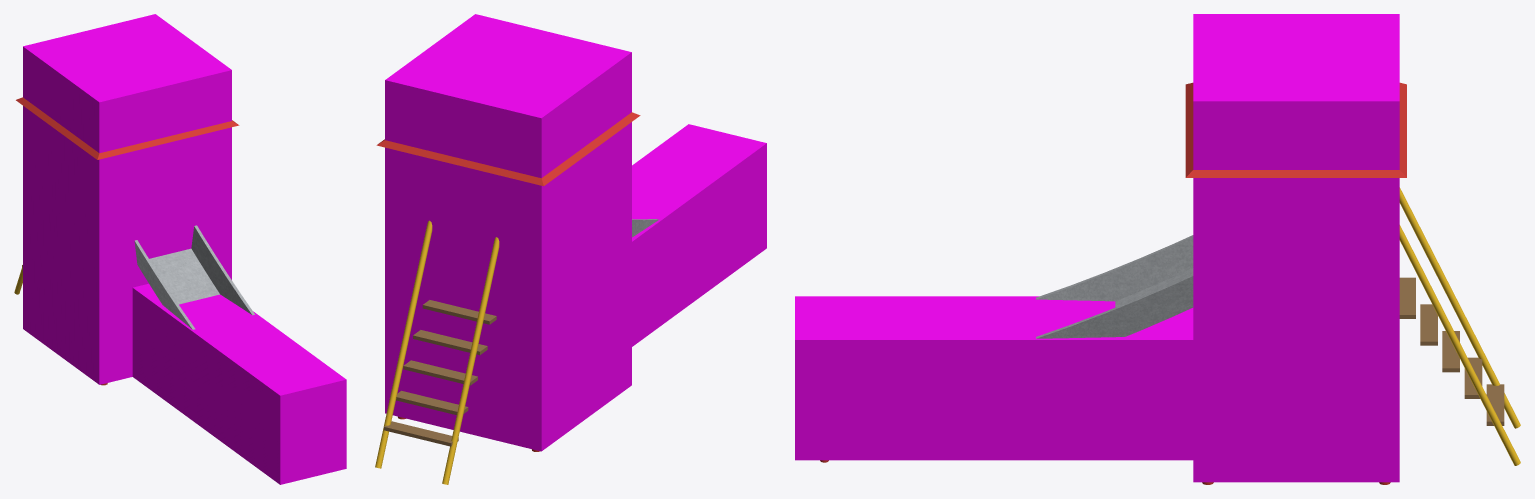
The model's file is EN_Yard_Slide.fbx.
3 views of the same model, side by side, from view 1: azimuth 30°, elevation 25°; view 2: azimuth 150°, elevation 25°; view 3: azimuth 270°, elevation 25° (orthographic). The views are drawn at different scales.
Visible parts, largest first — view 1: COL_Body, EN_Yard_Slide_Mesh; view 2: COL_Body, EN_Yard_Slide_Mesh; view 3: COL_Body, EN_Yard_Slide_Mesh.
Boxes of the visible parts, <box> form: COL_Body: <box>23,14,346,484</box>; EN_Yard_Slide_Mesh: <box>14,97,254,385</box>; COL_Body: <box>385,14,766,451</box>; EN_Yard_Slide_Mesh: <box>375,112,658,484</box>; COL_Body: <box>795,14,1399,482</box>; EN_Yard_Slide_Mesh: <box>820,82,1520,484</box>.
Size of the model in its own units: 1.5 by 2.91 by 4.92.
